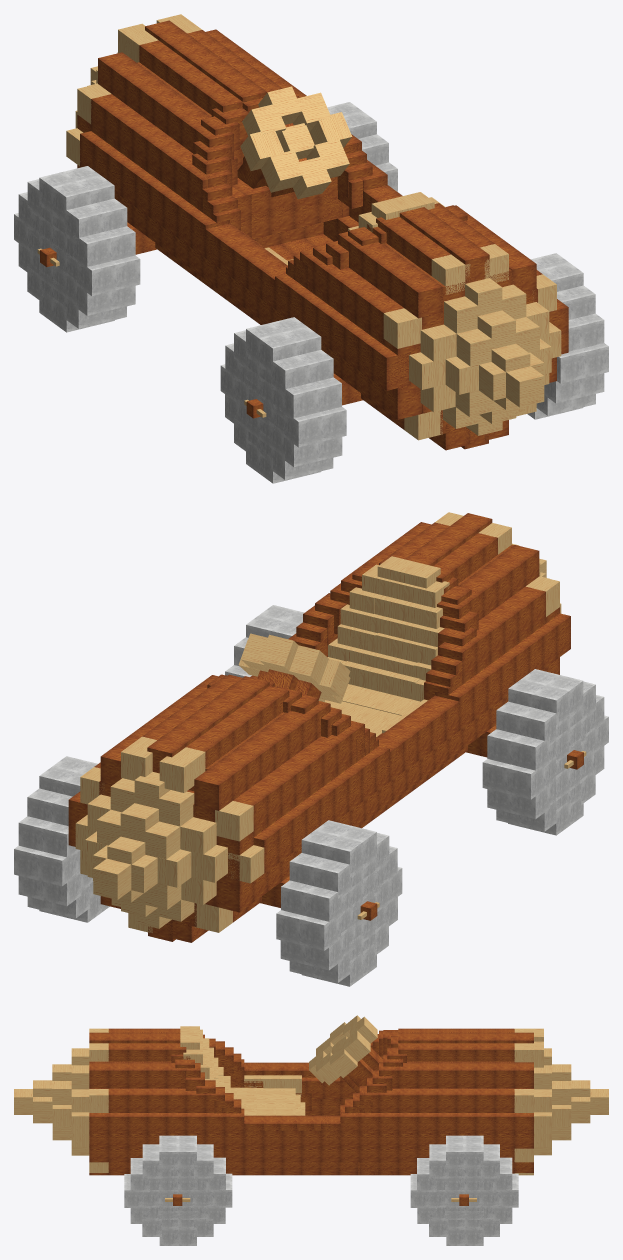
Rendered from carritov1_SinUnir.obj.
The picture shows the model from 3 angles, top to bottom: view 1: azimuth 30°, elevation 25°; view 2: azimuth 150°, elevation 25°; view 3: azimuth 270°, elevation 25°; orthographic projection. The views are drawn at different scales.
Visible parts, largest first — view 1: Box072, Box1246, Box075, Box1609, Box1226, Box001, Box1336, Box1349, Box1196, Box1341, Box1607, Box006 (+79 smaller); view 2: Box1152, Box1247, Box1155, Box005, Box1234, Box1340, Box1208, Box1213, Box1628, Box007, Box1342, Box1206 (+69 smaller); view 3: Box1612, Box124, Box1053, Box071, Box173, Box957, Box1151, Box222, Box908, Box1006, Box1102, Box1608 (+111 smaller).
Part boxes in pixels (x1,y1,x2,y2): Box072: (404,276,442,318); Box1246: (506,366,544,407); Box075: (383,308,421,348); Box1609: (261,150,301,192); Box1226: (456,328,494,369); Box001: (271,355,309,395); Box1336: (64,204,103,244); Box1349: (77,261,116,296); Box1196: (420,324,456,361); Box1341: (73,232,111,267); Box1607: (240,131,284,170); Box006: (279,383,318,419); Box1152: (194,769,232,810); Box1247: (93,858,131,899); Box1155: (215,801,253,841); Box005: (511,735,549,770); Box1234: (142,821,180,859); Box1340: (304,886,343,923); Box1208: (180,817,216,856); Box1213: (155,790,194,826); Box1628: (159,753,197,792); Box007: (507,764,545,799); Box1342: (300,916,338,950); Box1206: (190,845,227,882); Box1612: (343,1030,370,1062); Box124: (108,1062,128,1088); Box1053: (475,1062,495,1088); Box071: (89,1062,108,1088); Box173: (128,1062,147,1088); Box957: (437,1062,456,1088); Box1151: (514,1062,533,1088); Box222: (147,1062,166,1088); Box908: (417,1062,437,1088); Box1006: (456,1062,475,1088); Box1102: (495,1062,514,1088); Box1608: (330,1046,357,1077).
Bounding box in the file's own units: 5.32 × 3.82 × 11.96.
